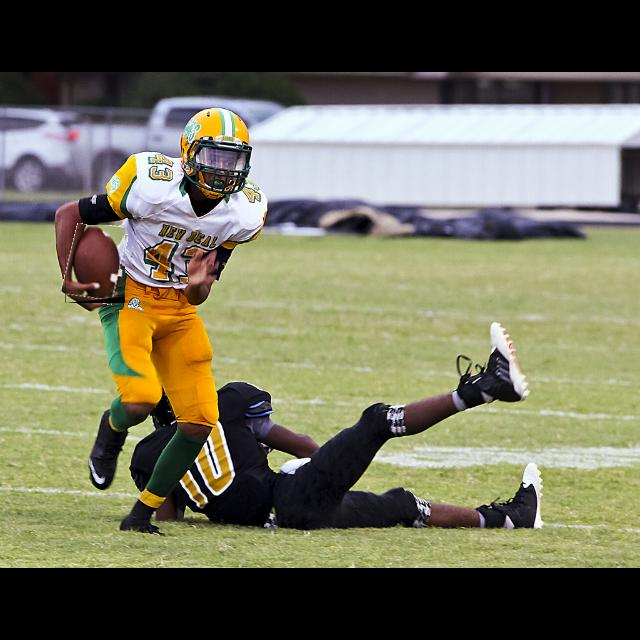Football: (65, 225, 125, 303)
